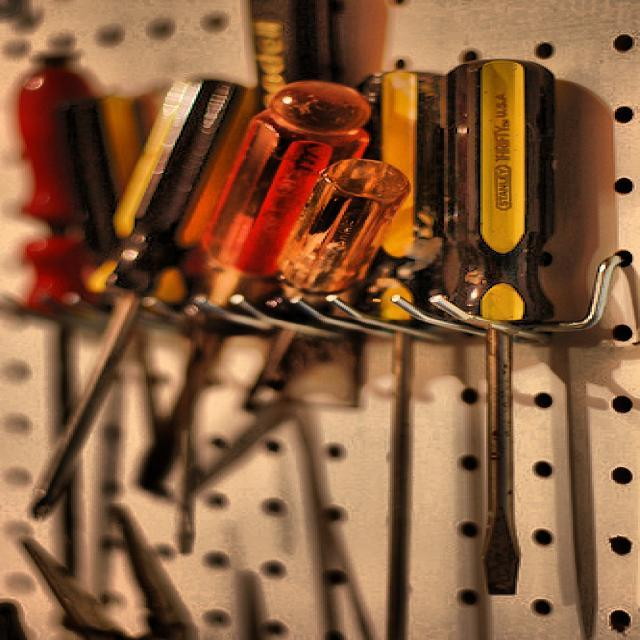screwdriver: (446, 57, 550, 595)
